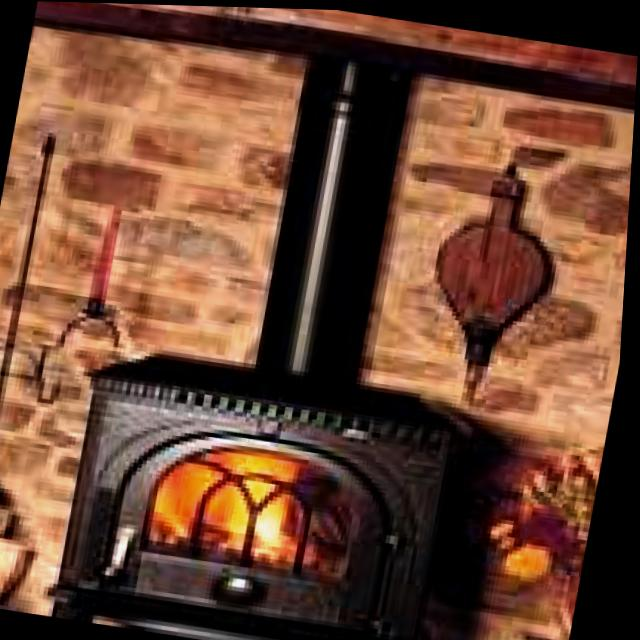fire: (133, 425, 328, 570)
